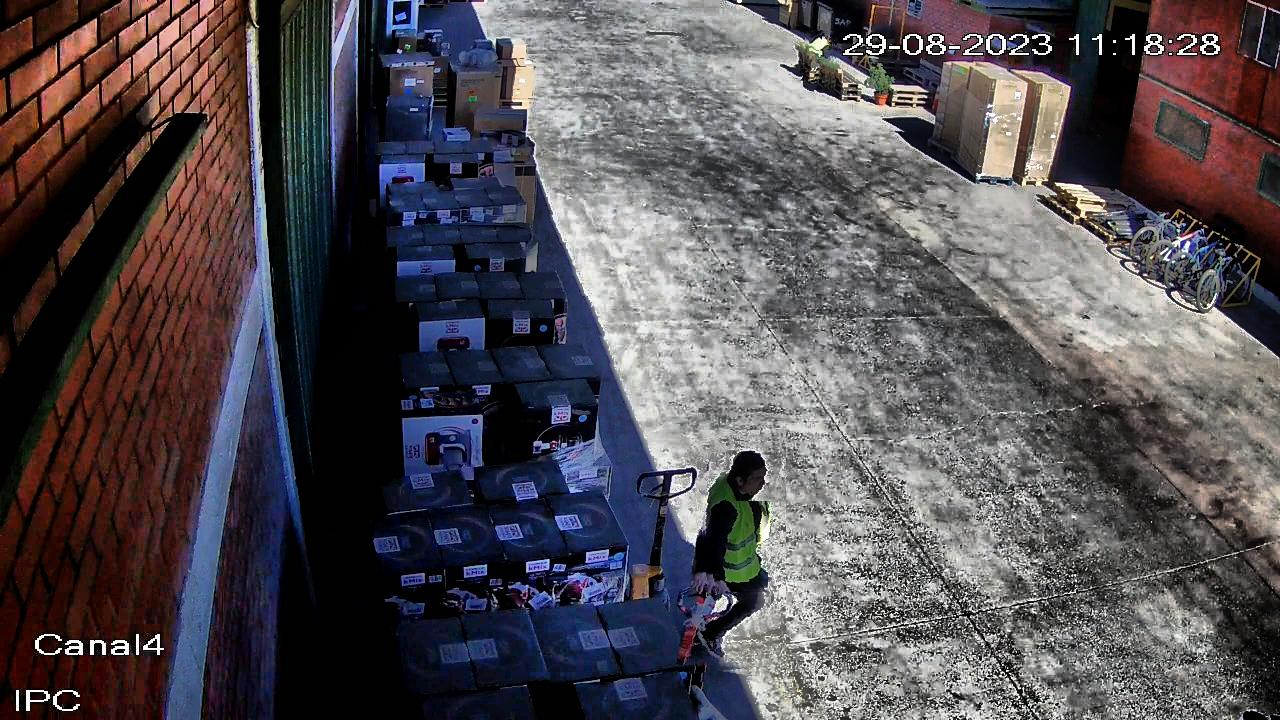con-chaleco: (698, 476, 769, 596), (810, 36, 833, 59)
persona: (686, 431, 787, 675), (803, 30, 837, 91)
sin-casco: (726, 442, 783, 502), (823, 32, 836, 43)
